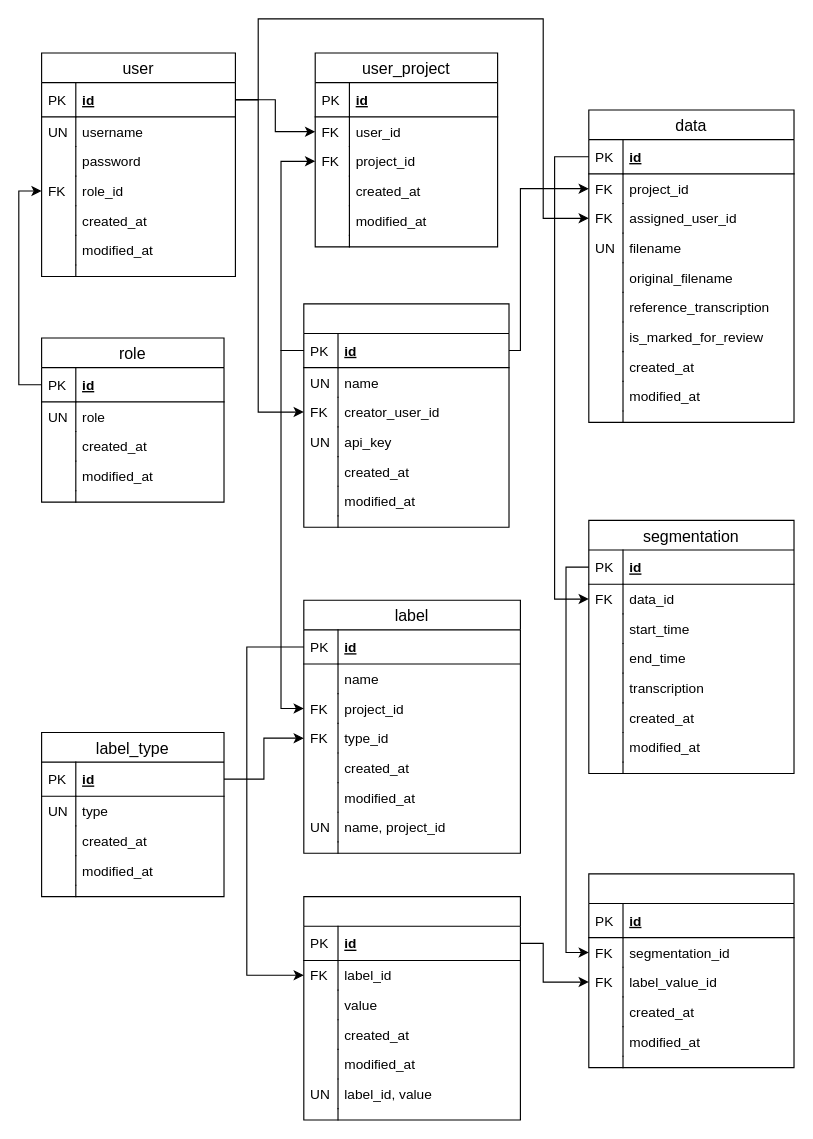
Image size: 813x1139. Some labels were removed from this diagram. Here are the shapes that lost their labels. From the top down, the box of each, then its label:
(303, 303, 509, 527): project
(588, 873, 794, 1068): annotation
(303, 895, 520, 1120): label_value
